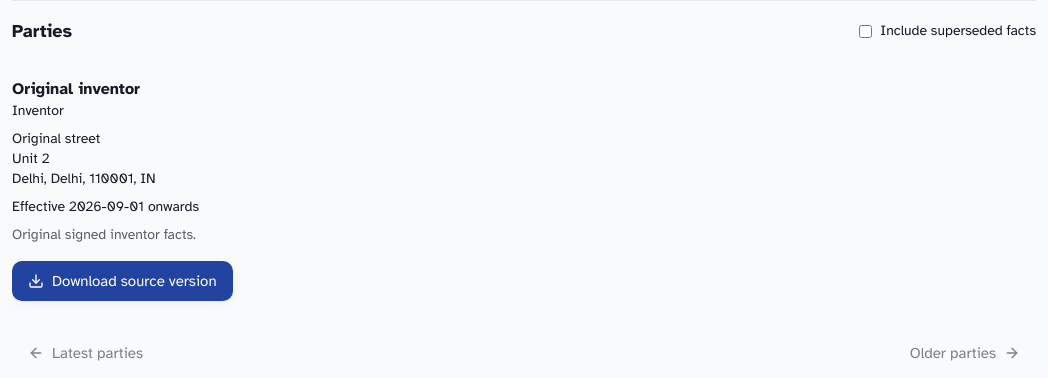
Test case: Sourced patent party workspace › keeps superseded history and closed records readable without offering mutations
Expected: the heading "Original inventor" is shown, [12,79,140,99]
Click the checkbox labelled "Include superseded facts" at [866, 31], box [859,24,872,38]
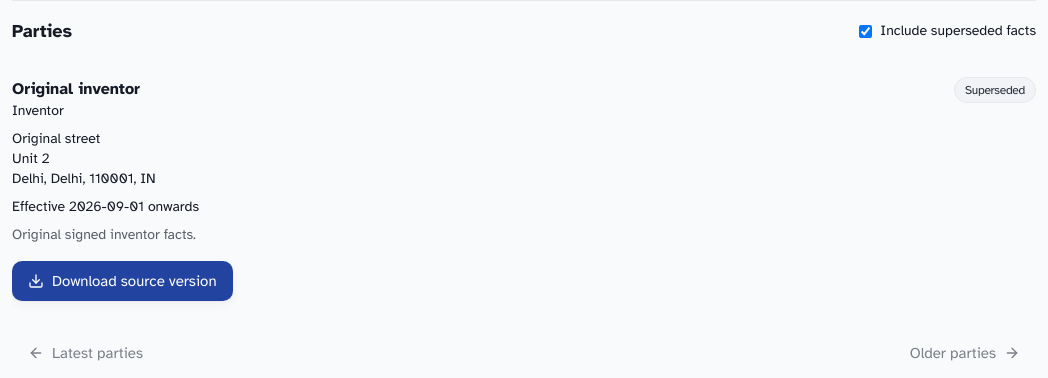
Expected: the button "Download source version" is shown, [12,261,233,301]
Result: the text "Superseded" is shown at [954,77,1036,103]
